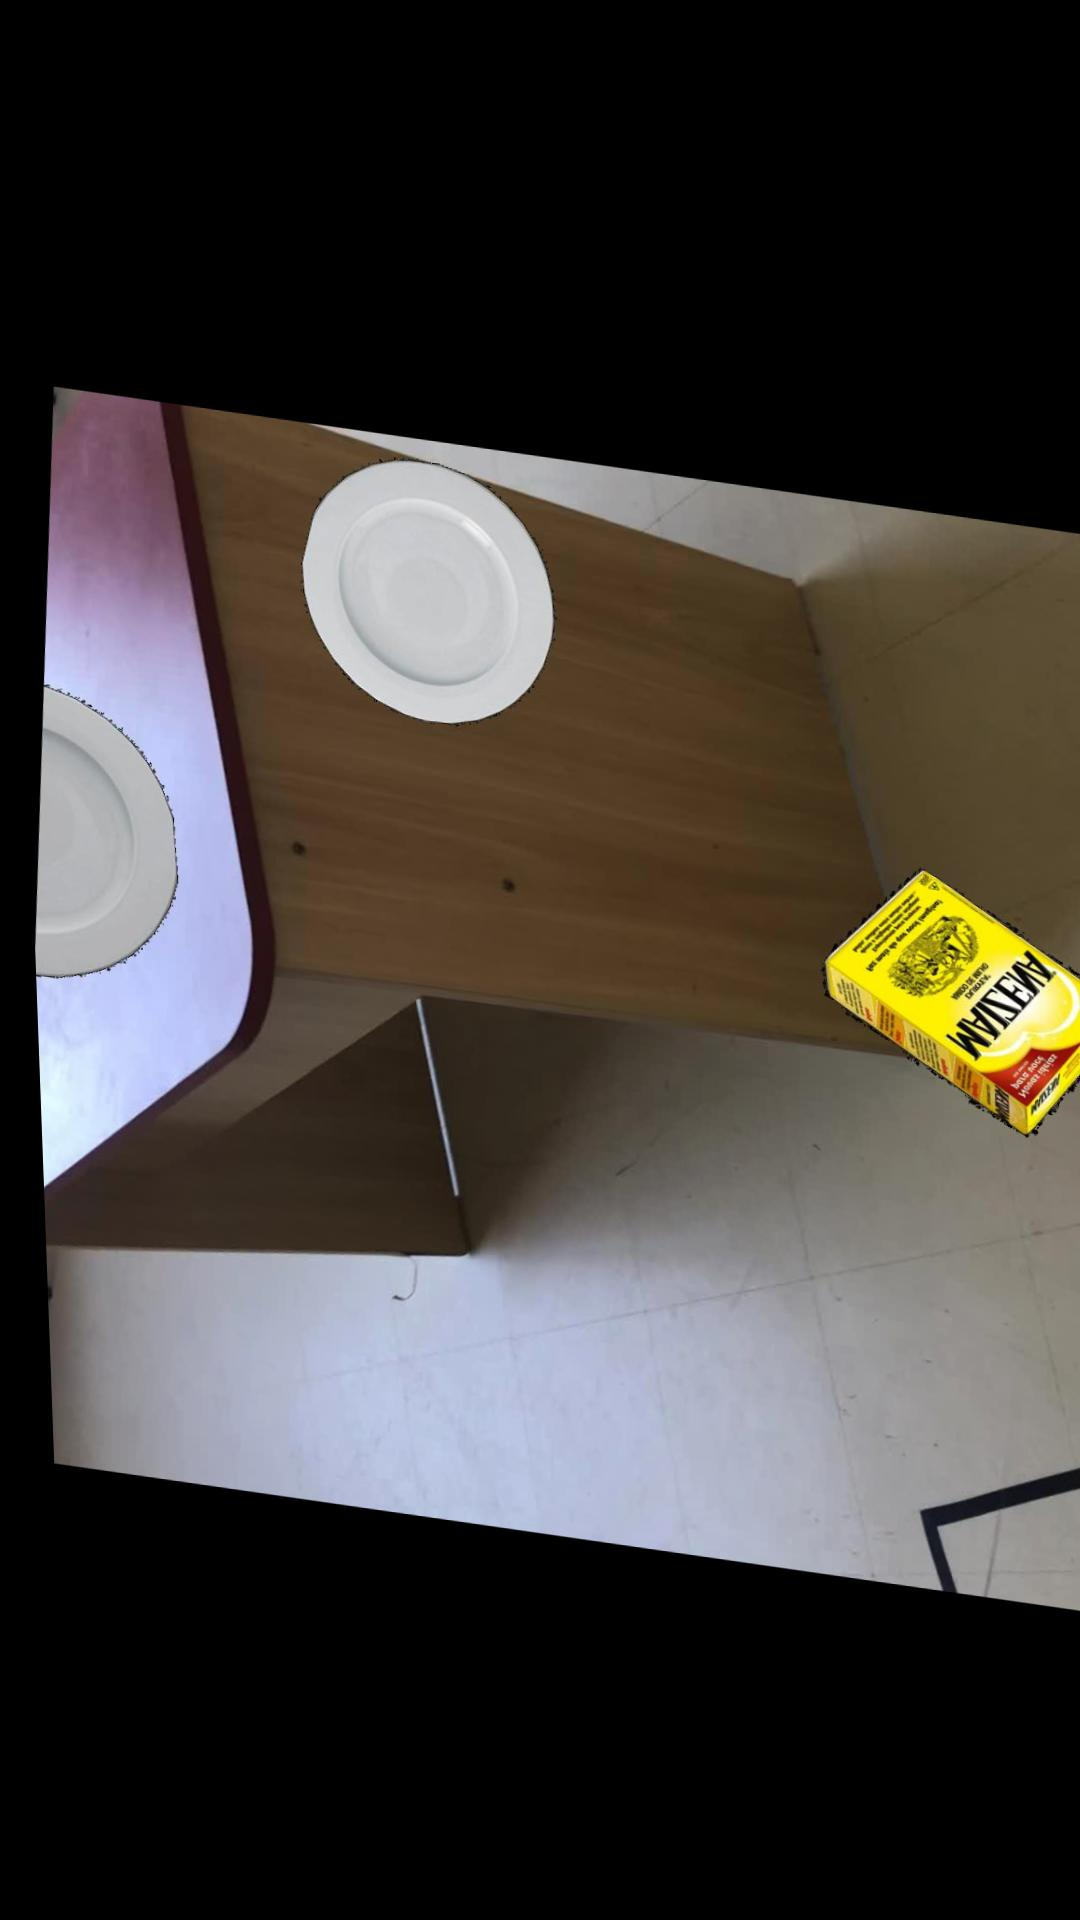plate: (294, 452, 547, 719), (28, 686, 169, 980)
